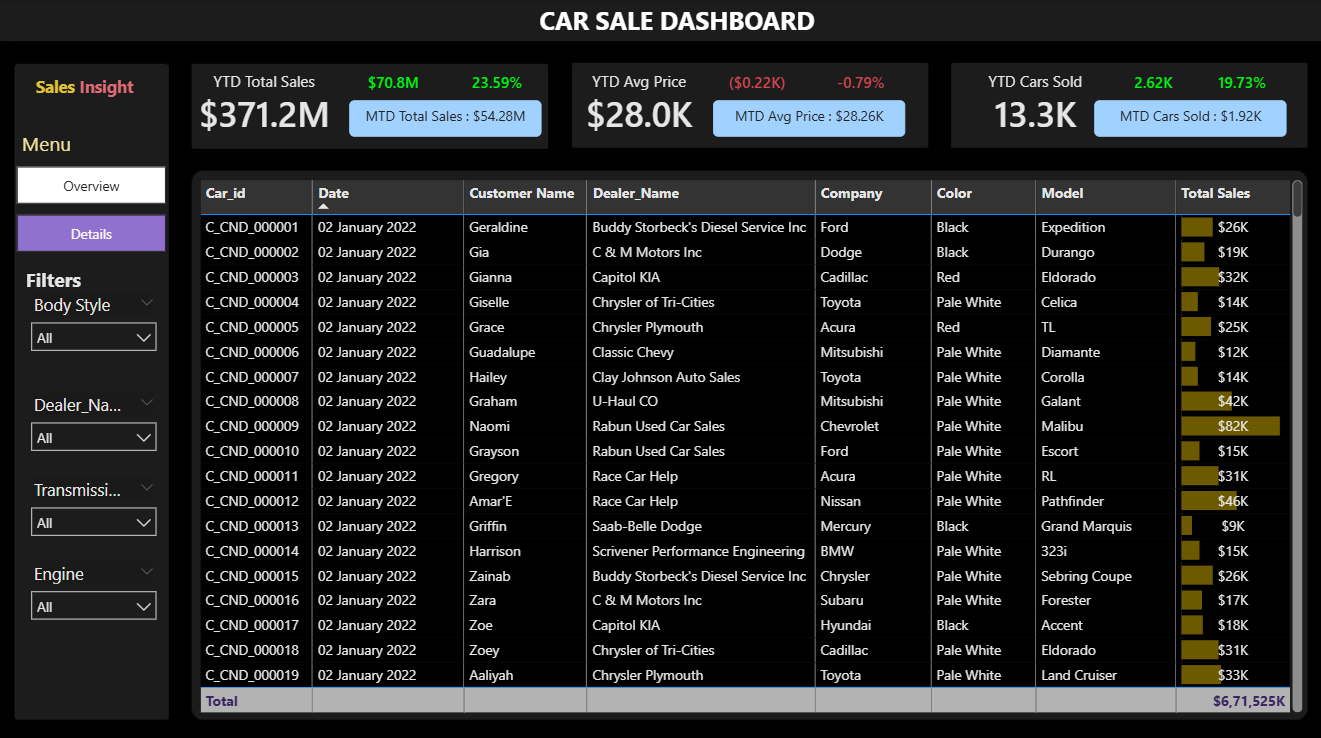

Layout of this report page (visuals, bound fields, positions):
{"tool":"powerbi","page":{"name":"Details","canvas":[1280,720],"ordinal":1},"visuals":[{"type":"card","title":"YTD Total Sales","fields":{"Values":["car_data.YTD Total sales"]},"box":[185.8,68.8,142.4,65.1],"z":0},{"type":"card","fields":{"Values":["car_data.Sales Difference"]},"box":[339,68.8,85.7,29],"z":1000},{"type":"card","fields":{"Values":["car_data.YoY Sales Growth"]},"box":[439.1,68.8,85.7,29],"z":2000},{"type":"card","fields":{"Values":["car_data.MTD KPI"]},"box":[339,97.7,185.8,35],"z":3000},{"type":"card","title":"YTD Avg Price","fields":{"Values":["car_data.YTD Avg Price"]},"box":[547.7,68.8,142.4,65.1],"z":4000},{"type":"card","fields":{"Values":["car_data.Avg Price Diff"]},"box":[690.1,68.8,85.7,29],"z":5000},{"type":"card","fields":{"Values":["car_data.YoY Avg Price Growth"]},"box":[790.2,68.8,85.7,29],"z":6000},{"type":"card","fields":{"Values":["car_data.MTD Avg Price KPI"]},"box":[690.1,97.7,185.8,35],"z":7000},{"type":"card","title":"YTD Cars Sold","fields":{"Values":["car_data.YTD Cars Sold"]},"box":[930.2,68.8,142.4,65.1],"z":8000},{"type":"card","fields":{"Values":["car_data.Cars Sold Diff"]},"box":[1072.5,68.8,85.7,29],"z":9000},{"type":"card","fields":{"Values":["car_data.YoY Car Sold Growth"]},"box":[1158.2,68.8,85.7,29],"z":10000},{"type":"card","fields":{"Values":["car_data.MTD Cars Sold KPI"]},"box":[1058,97.7,185.8,35],"z":11000},{"type":"textbox","box":[517.7,0,297.2,60.9],"z":12000},{"type":"slicer","fields":{"Values":["car_data.Body Style"]},"box":[21.9,279,141.3,81.6],"z":13000},{"type":"slicer","fields":{"Values":["car_data.Dealer_Name"]},"box":[21.9,375.2,141.3,81.6],"z":14000},{"type":"slicer","fields":{"Values":["car_data.Transmission"]},"box":[21.9,456.8,141.3,81.6],"z":15000},{"type":"slicer","fields":{"Values":["car_data.Engine"]},"box":[21.9,538.4,141.3,81.6],"z":16000},{"type":"textbox","box":[21.9,253.4,88.9,40.2],"z":17000},{"type":"tableEx","fields":{"Values":["car_data.Car_id","car_data.Date","car_data.Customer Name","car_data.Dealer_Name","car_data.Company","car_data.Color","car_data.Model","car_data.Price ($)"]},"box":[188.8,170.5,1074.4,523.8],"z":18000},{"type":"textbox","box":[31.7,68.2,120.6,42.6],"z":19000},{"type":"pageNavigator","box":[18.3,162,145,82.8],"z":20000},{"type":"textbox","box":[18.3,121.8,78,48.7],"z":21000}]}

Visuals, with their boxes in screenshot pixels (x1, y1, x2, y2), scaled from the page's 1280x720 canvas onto the 1321x738 screenshot:
"YTD Total Sales" card: <box>192,71,339,137</box>
card - car_data.Sales Difference: <box>350,71,438,100</box>
card - car_data.YoY Sales Growth: <box>453,71,542,100</box>
card - car_data.MTD KPI: <box>350,100,542,136</box>
"YTD Avg Price" card: <box>565,71,712,137</box>
card - car_data.Avg Price Diff: <box>712,71,801,100</box>
card - car_data.YoY Avg Price Growth: <box>816,71,904,100</box>
card - car_data.MTD Avg Price KPI: <box>712,100,904,136</box>
"YTD Cars Sold" card: <box>960,71,1107,137</box>
card - car_data.Cars Sold Diff: <box>1107,71,1195,100</box>
card - car_data.YoY Car Sold Growth: <box>1195,71,1284,100</box>
card - car_data.MTD Cars Sold KPI: <box>1092,100,1284,136</box>
textbox: <box>534,0,841,62</box>
slicer - car_data.Body Style: <box>23,286,168,370</box>
slicer - car_data.Dealer_Name: <box>23,385,168,468</box>
slicer - car_data.Transmission: <box>23,468,168,552</box>
slicer - car_data.Engine: <box>23,552,168,636</box>
textbox: <box>23,260,114,301</box>
tableEx - car_data.Car_id x car_data.Date: <box>195,175,1304,712</box>
textbox: <box>33,70,157,114</box>
pageNavigator: <box>19,166,169,251</box>
textbox: <box>19,125,99,175</box>
